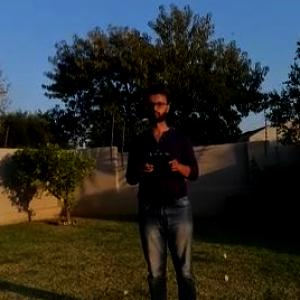follow: (116, 79, 202, 299)
